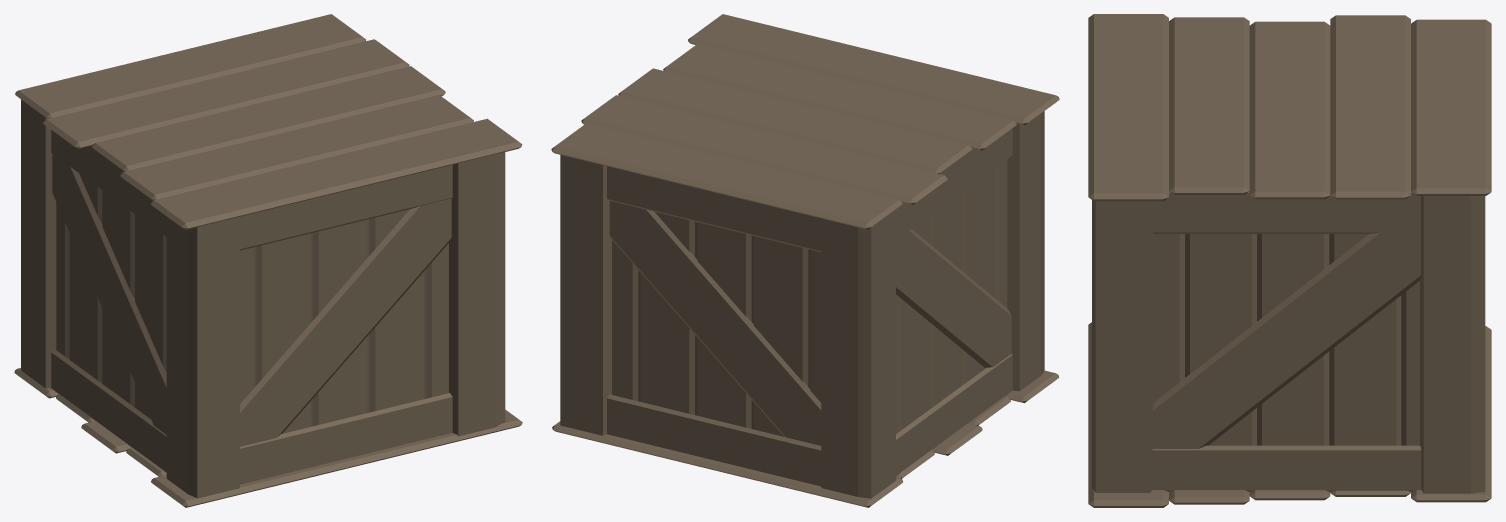
File: Crate.fbx
The picture shows the model from 3 angles, left to right: view 1: azimuth 30°, elevation 25°; view 2: azimuth 150°, elevation 25°; view 3: azimuth 270°, elevation 25°; orthographic projection. The views are drawn at different scales.
Visible parts, largest first — view 1: polySurface928; view 2: polySurface928; view 3: polySurface928.
Boxes of the visible parts, bbox=[...] form: polySurface928: bbox=[14, 14, 522, 507]; polySurface928: bbox=[551, 14, 1059, 507]; polySurface928: bbox=[1088, 14, 1491, 507].
Size of the model in its own units: 0.7829 by 0.6259 by 0.7278.
